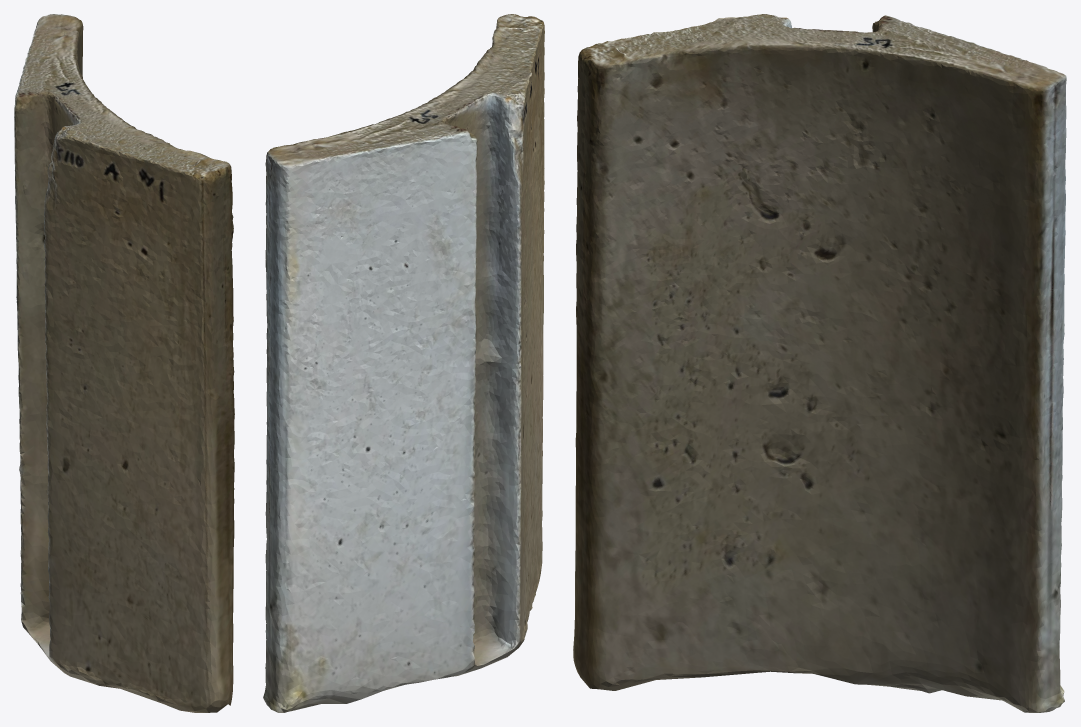
Rendered from Pixel 37.glb.
The picture shows the model from 3 angles, left to right: view 1: azimuth 30°, elevation 25°; view 2: azimuth 150°, elevation 25°; view 3: azimuth 270°, elevation 25°; orthographic projection. The views are drawn at different scales.
Size of the model in its own units: 0.0728 by 0.2646 by 0.1841.
1 material, 1 textured.
